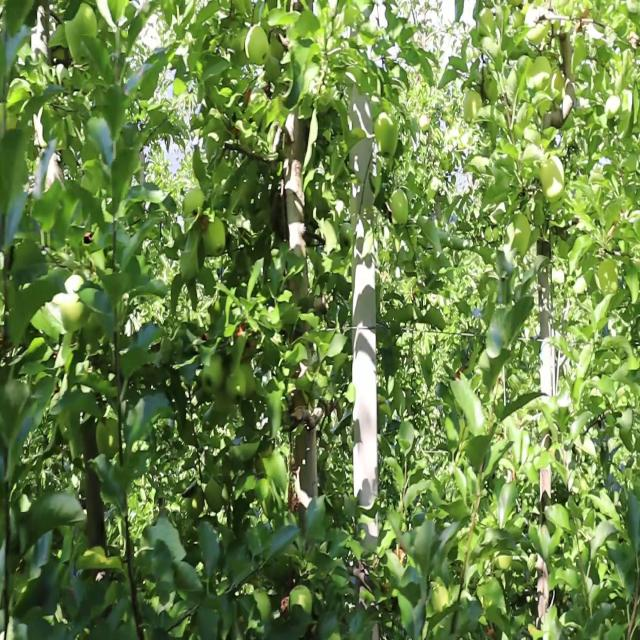apple: (61, 274, 84, 330), (540, 155, 566, 202), (374, 112, 398, 158), (95, 416, 120, 460), (244, 23, 269, 64), (508, 214, 530, 258), (202, 217, 226, 257), (200, 356, 224, 394), (226, 364, 247, 405), (205, 477, 225, 514), (461, 91, 482, 124), (391, 190, 409, 228), (185, 485, 204, 521), (183, 185, 203, 217), (290, 584, 312, 613), (253, 590, 271, 620)
